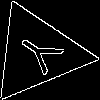Y: (12, 28, 73, 82)
